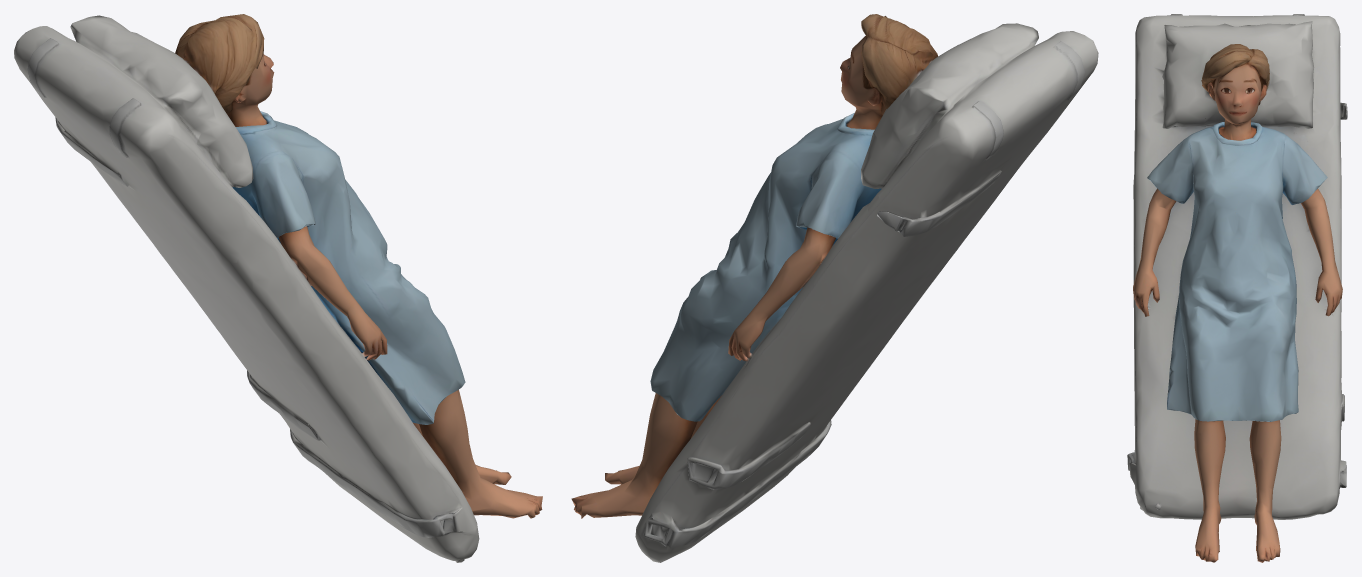
Rendered from patient.glb.
3 views of the same model, side by side, from view 1: azimuth 30°, elevation 25°; view 2: azimuth 150°, elevation 25°; view 3: azimuth 270°, elevation 25° (orthographic). The views are drawn at different scales.
Parts seen in each view (by area): view 1: tripo_node_ab51256b-5d55-4b25-a513-7890538ed849; view 2: tripo_node_ab51256b-5d55-4b25-a513-7890538ed849; view 3: tripo_node_ab51256b-5d55-4b25-a513-7890538ed849.
Part boxes in pixels (left/top/right/bottom): tripo_node_ab51256b-5d55-4b25-a513-7890538ed849: left=14, top=14, right=542, bottom=562; tripo_node_ab51256b-5d55-4b25-a513-7890538ed849: left=571, top=14, right=1098, bottom=562; tripo_node_ab51256b-5d55-4b25-a513-7890538ed849: left=1127, top=14, right=1347, bottom=562.
Bounding box in the file's own units: 0.8667 × 1 × 0.4877.
1 material, 1 textured.
